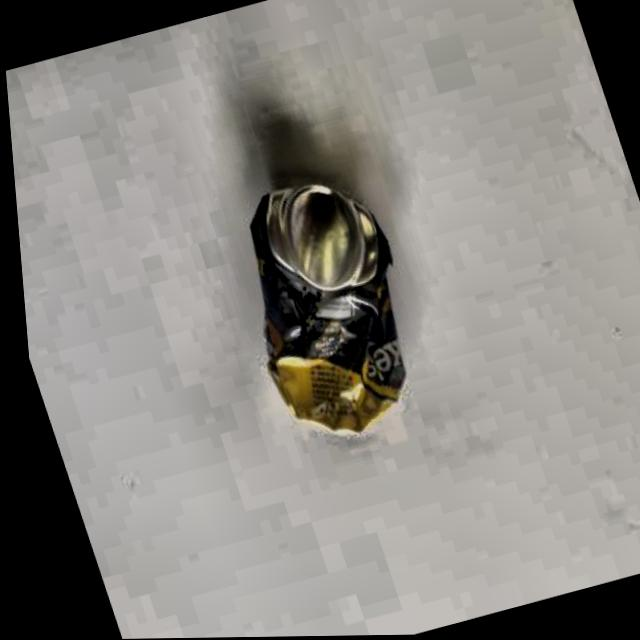Cans: (194, 143, 452, 469)
